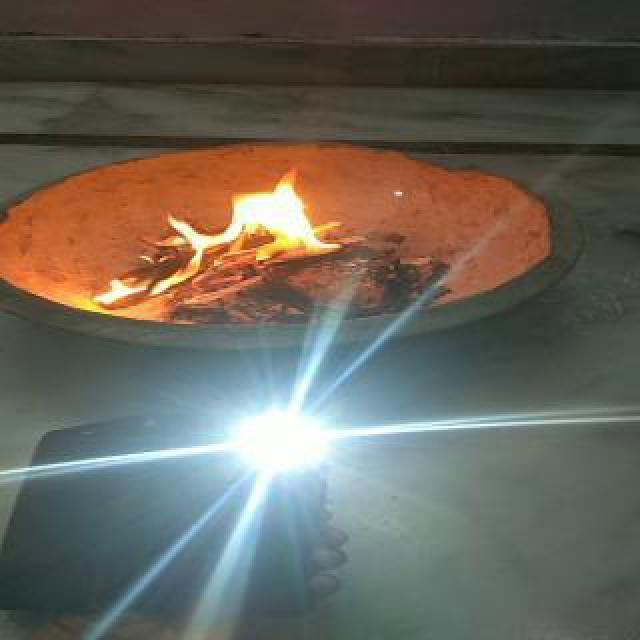Fire: (94, 172, 364, 308)
